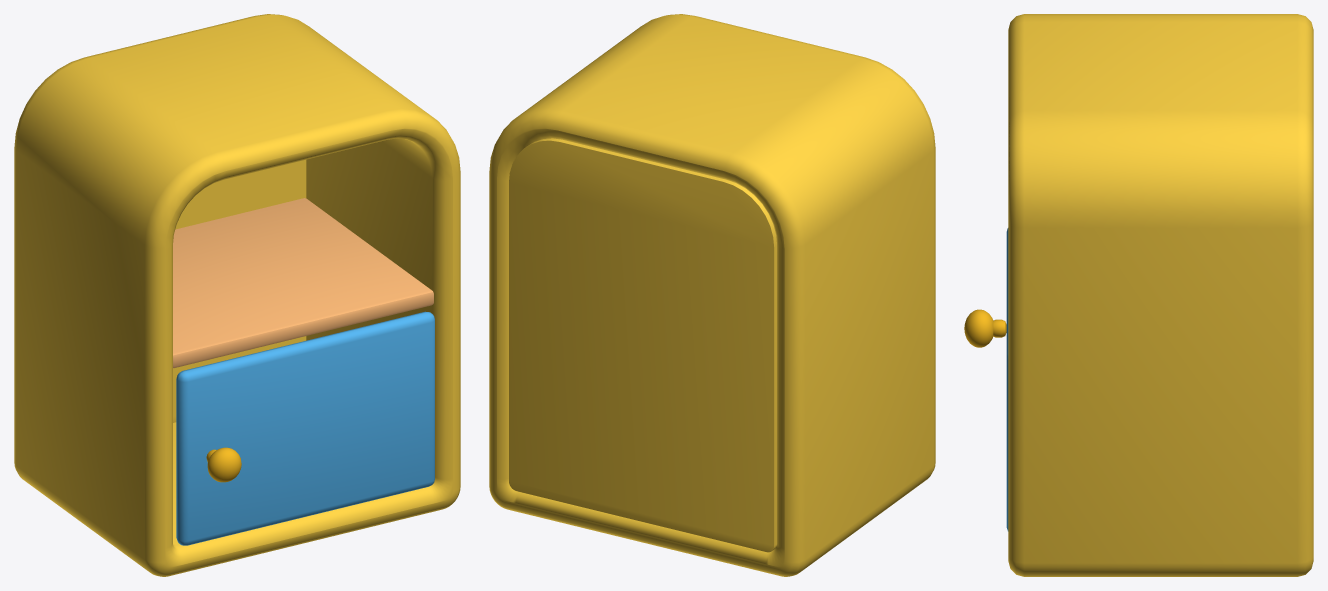
The model's file is criado_arco_porta_amarelo.glb.
3 renders of one model, left to right at view 1: azimuth 30°, elevation 25°; view 2: azimuth 150°, elevation 25°; view 3: azimuth 270°, elevation 25°, orthographic. The views are drawn at different scales.
Parts seen in each view (by area): view 1: criado_arco_porta_amarelo, porta_1; view 2: criado_arco_porta_amarelo; view 3: criado_arco_porta_amarelo, porta_1.
Part boxes in pixels (left/top/right/bottom): criado_arco_porta_amarelo: left=14, top=14, right=460, bottom=576; porta_1: left=176, top=311, right=434, bottom=545; criado_arco_porta_amarelo: left=489, top=14, right=935, bottom=576; criado_arco_porta_amarelo: left=1008, top=14, right=1313, bottom=576; porta_1: left=964, top=228, right=1008, bottom=531.
Size of the model in its own units: 0.48 by 0.6 by 0.4346.
1 material, 1 textured.
